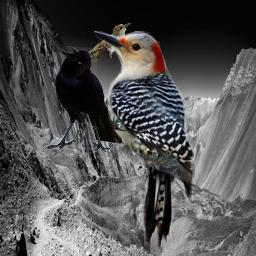Crow: (44, 46, 122, 152)
Cuckoo: (68, 23, 131, 73)
Woodpecker: (94, 31, 195, 247)
